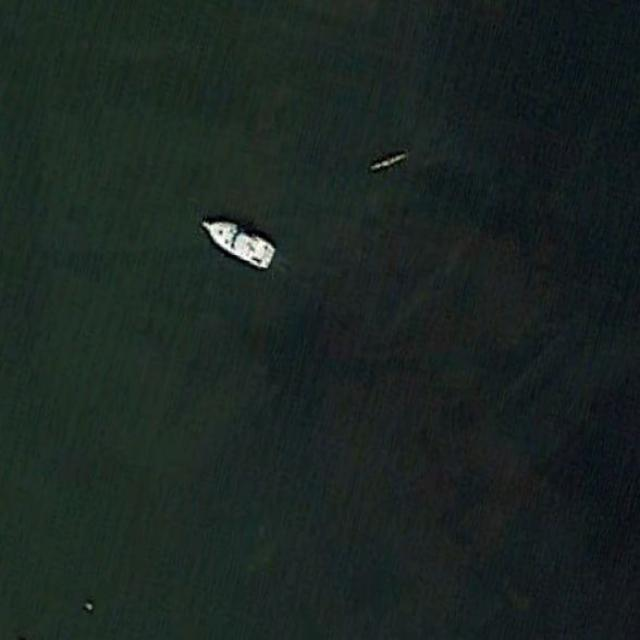boat: (197, 217, 275, 270)
